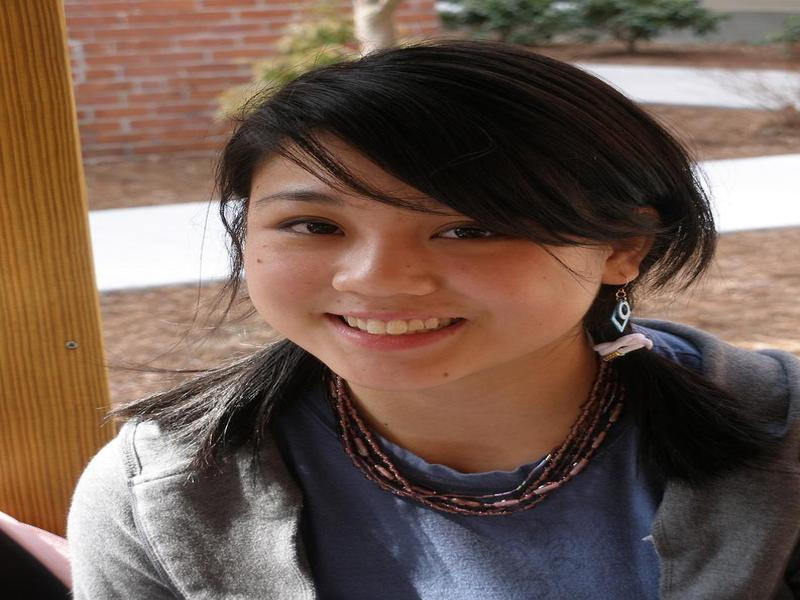person: (77, 52, 797, 600)
